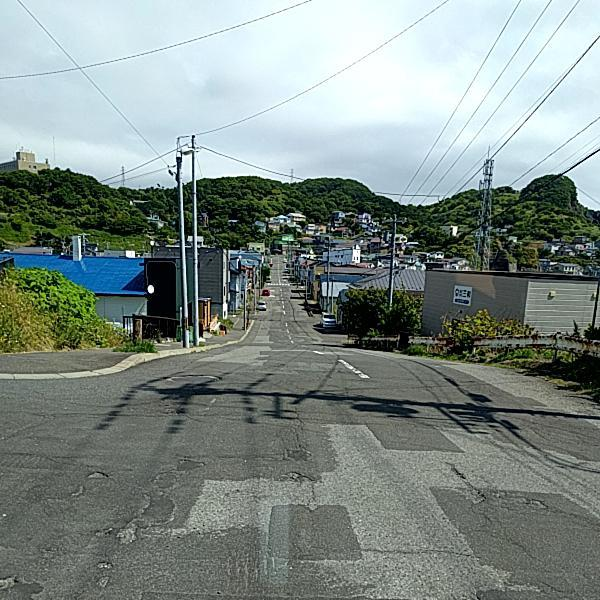D10: (355, 535, 482, 566)
D40: (113, 514, 145, 545), (89, 555, 114, 589), (276, 469, 318, 486), (1, 569, 22, 593), (80, 467, 110, 480)
D50: (158, 370, 232, 390)
